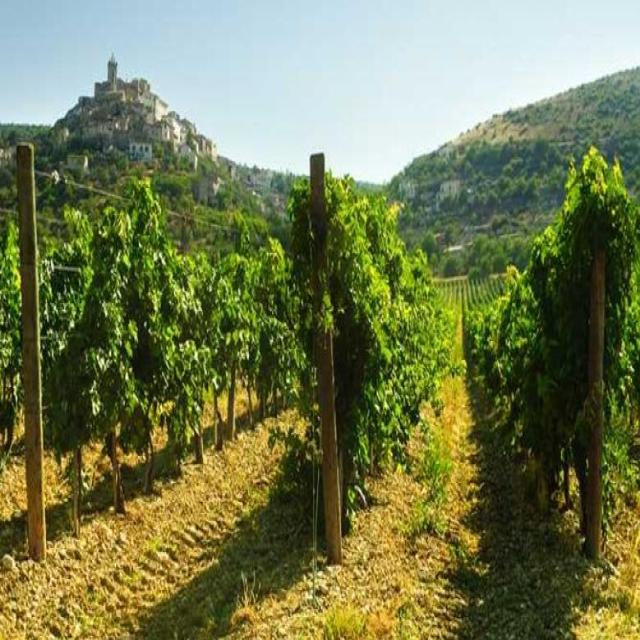row: (311, 322, 590, 640), (22, 421, 363, 575)
